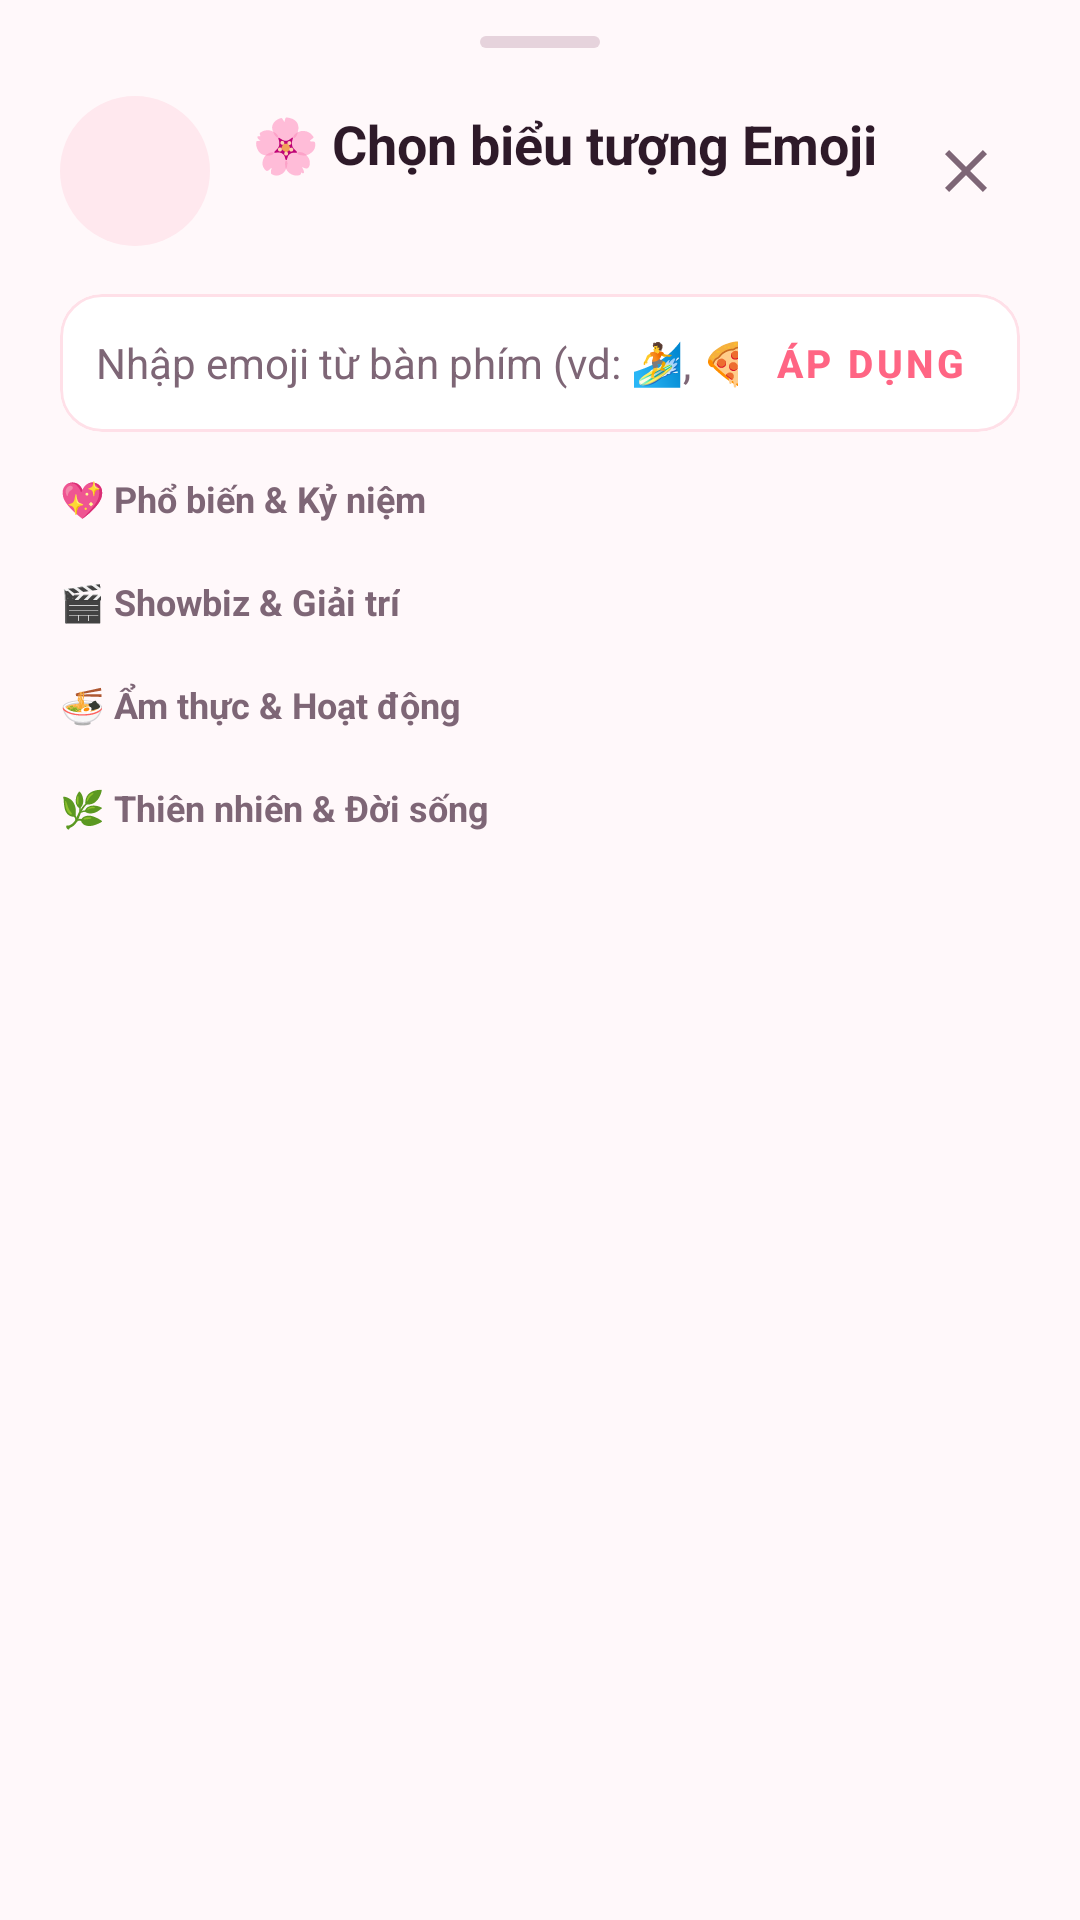

Locate icon controls on the screen. Image size 1080 x 1920, boxes as bbox(x1, y1, x2, y2).
Đóng: bbox(945, 150, 987, 192)
